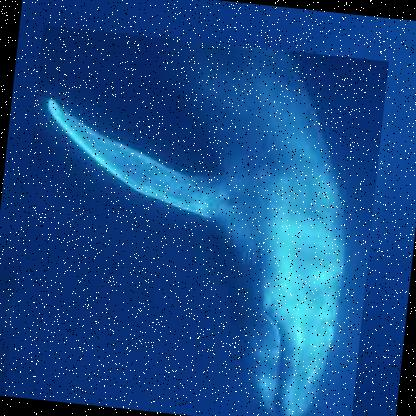blue_whale: (1, 23, 388, 415)
